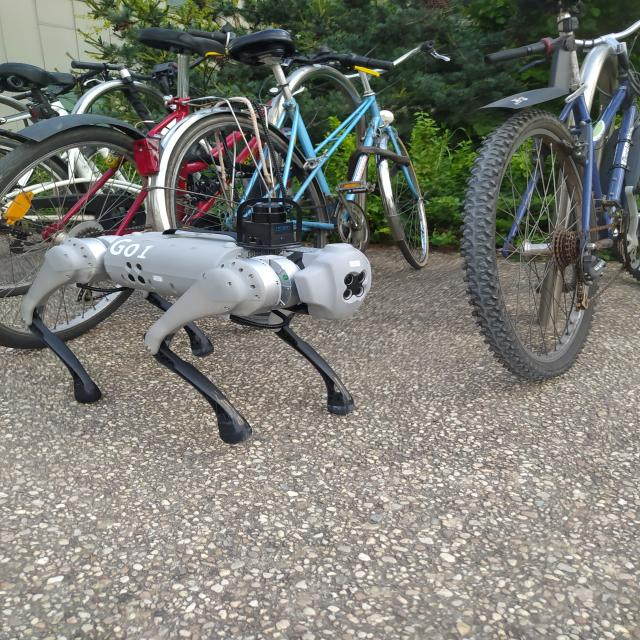unitree-go1-robot: (28, 222, 377, 440)
